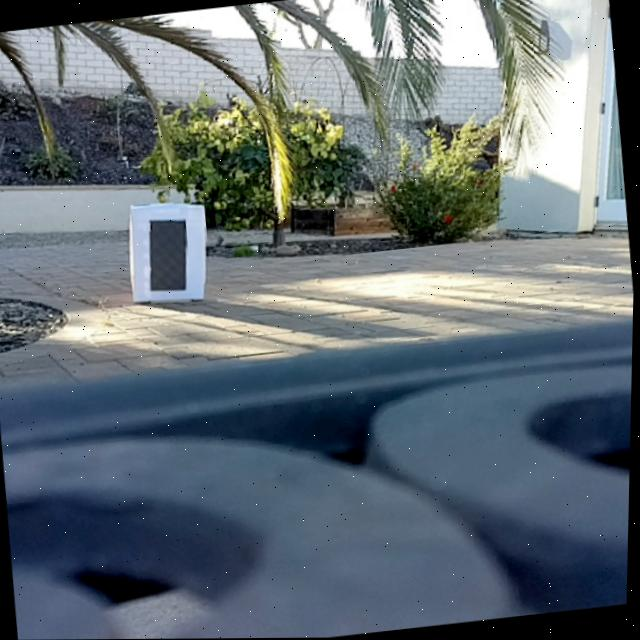led: (143, 211, 195, 297)
